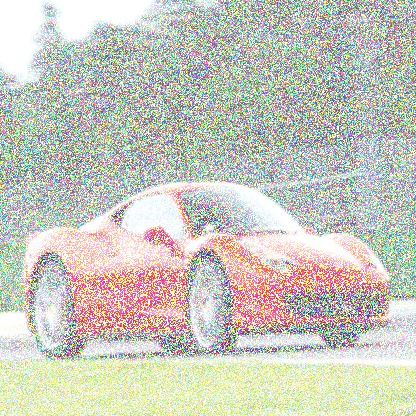Vehicle: (23, 180, 392, 362)
